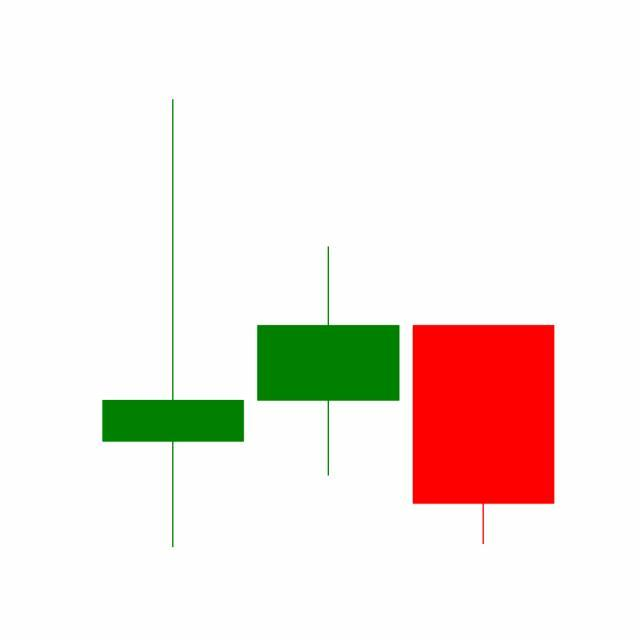Marubozu: (406, 322, 562, 547)
